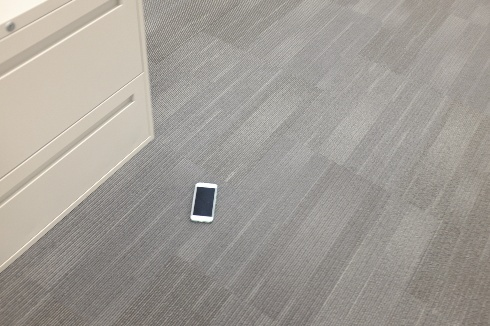phone: (179, 186, 228, 218)
